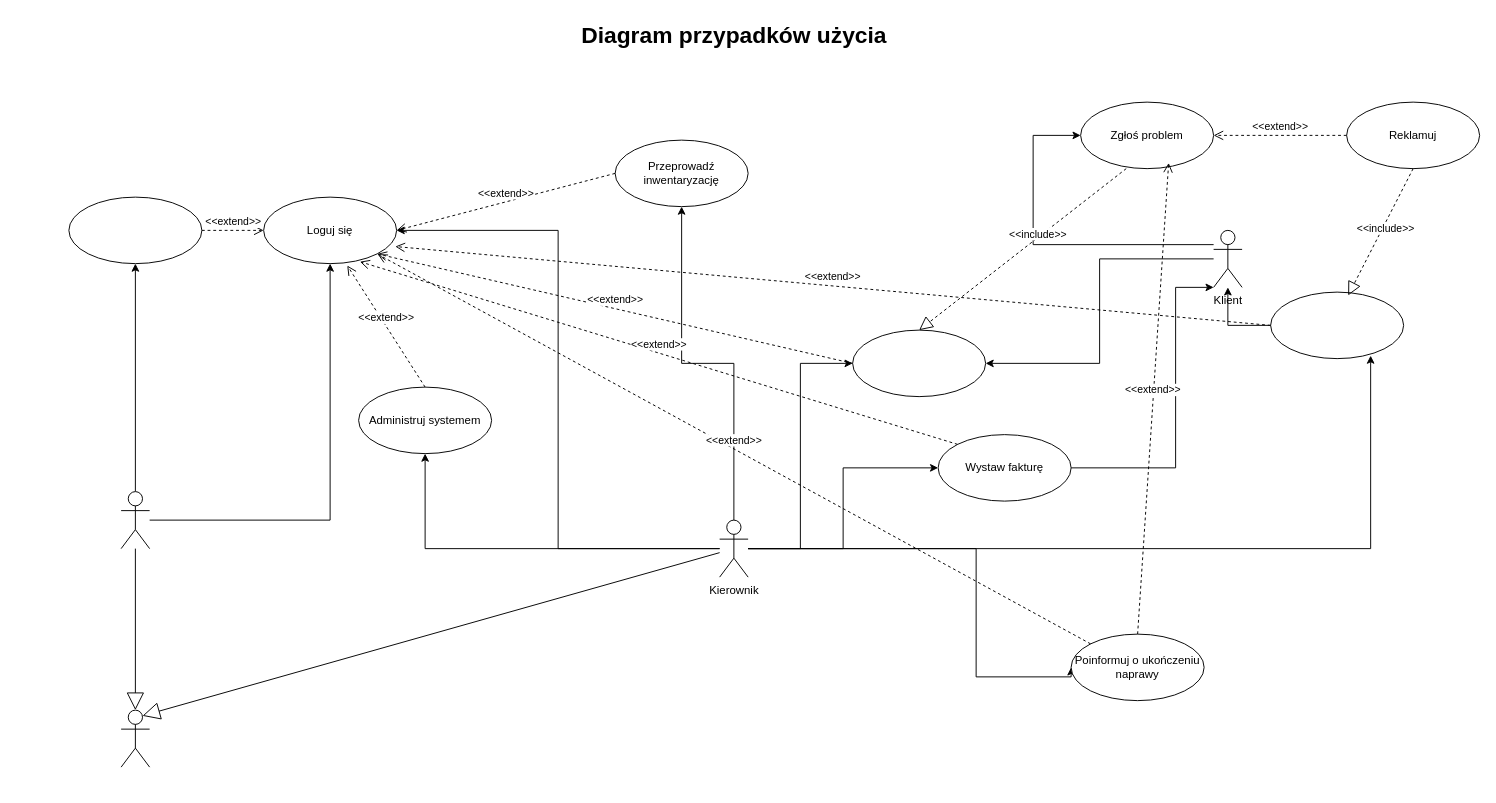
This 1496x803 diagram has some shape labels left out. Each missing label, with the centre of its shape:
Rejestruj Klienta: the point at 919,363
Serwisant: the point at 135,520
Użytkownik: the point at 135,738
Wystaw gwarację: the point at 1337,325
Zarządzaj naprawą: the point at 135,230
